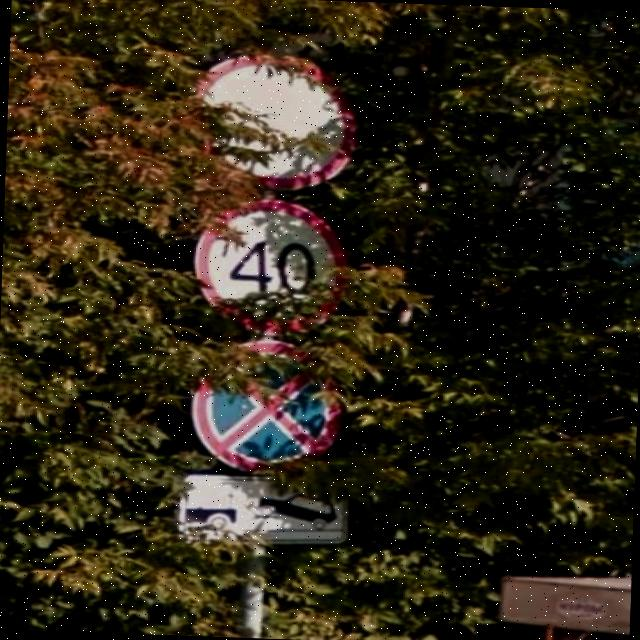Ograniczenie predkosci do 40: (189, 196, 354, 341)
Zakaz wjazdu: (182, 52, 366, 194)
Zakaz zatrzymywania sie: (185, 332, 352, 478)
